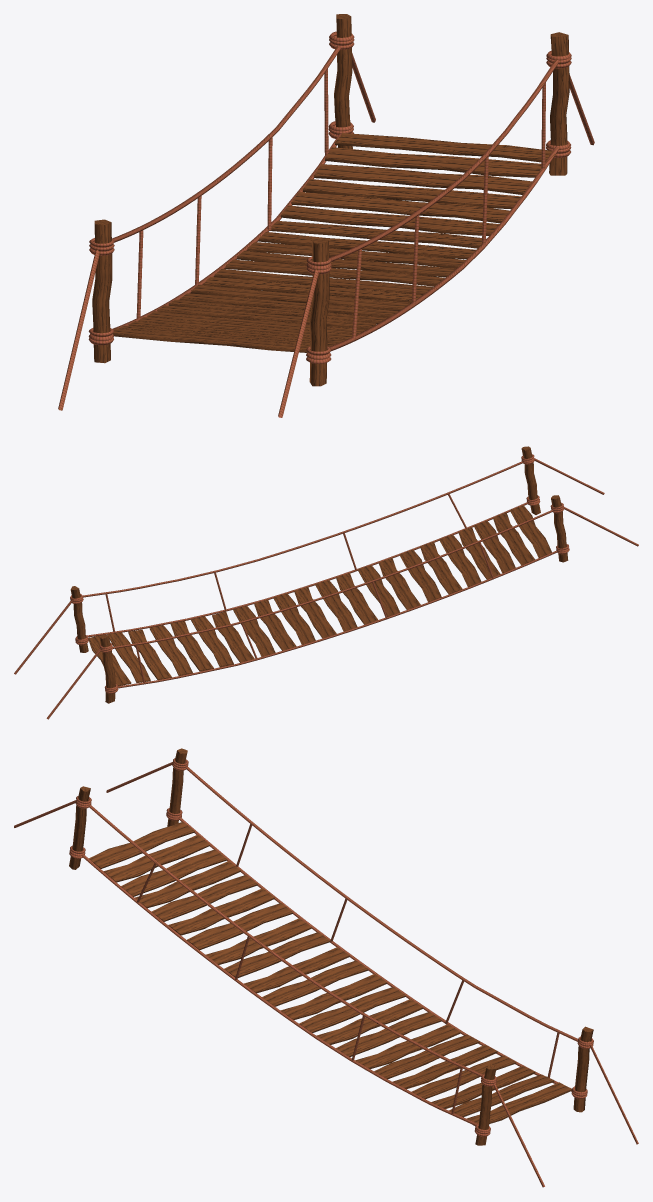
Rendered from ShortBridge_2.fbx.
3 renders of one model, top to bottom at view 1: azimuth 30°, elevation 25°; view 2: azimuth 150°, elevation 25°; view 3: azimuth 270°, elevation 25°, orthographic. The views are drawn at different scales.
Visible parts, largest first — view 1: polySurface77; view 2: polySurface77; view 3: polySurface77.
Boxes of the visible parts, x1,y1,x2,y2 form: polySurface77: [58, 14, 594, 417]; polySurface77: [14, 446, 638, 719]; polySurface77: [14, 748, 638, 1187].
Size of the model in its own units: 20.77 by 7.48 by 20.58.
